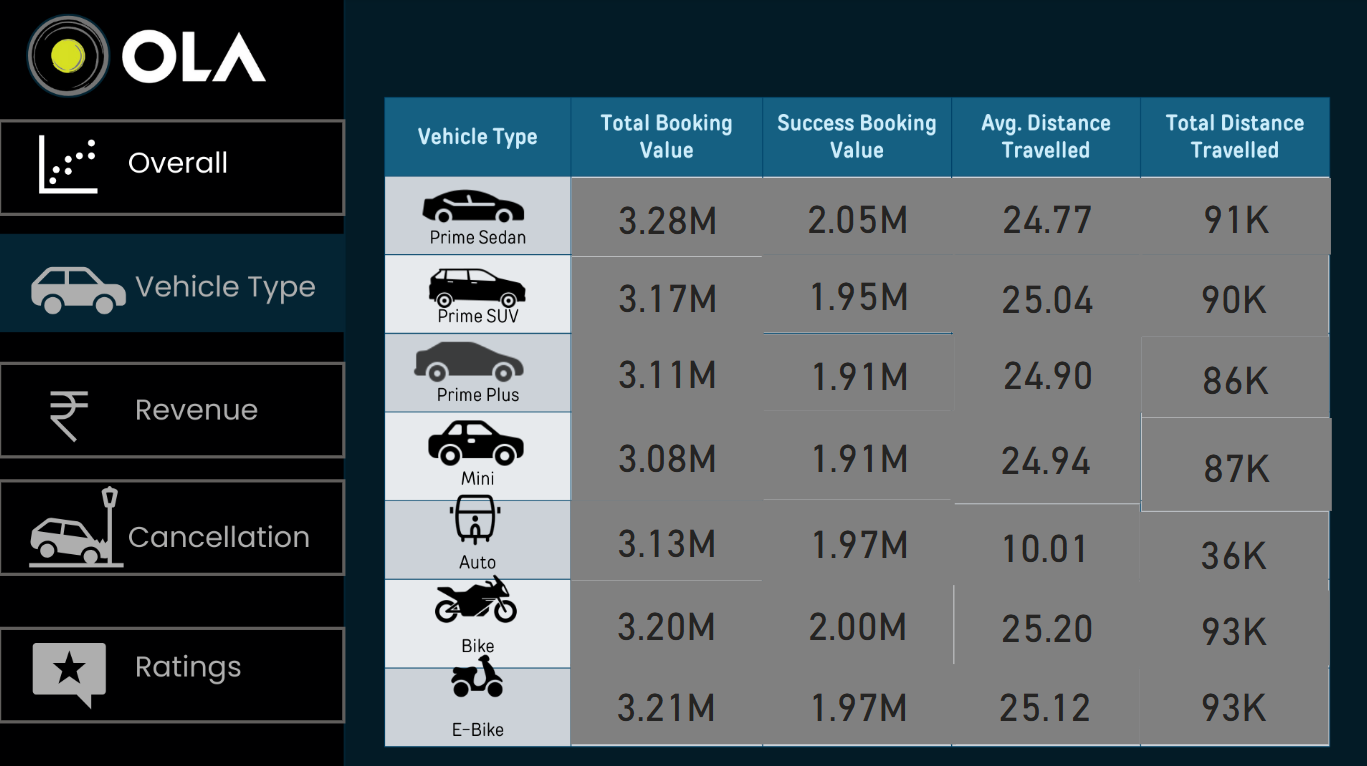

The page's visual inventory and layout, read from the dashboard file:
{"tool":"powerbi","page":{"name":"Vehicle Type","canvas":[1280,720],"ordinal":1},"visuals":[{"type":"actionButton","box":[0,113.3,323.3,90],"z":0},{"type":"actionButton","box":[0,338.9,323.3,90],"z":1000},{"type":"actionButton","box":[0,447.8,323.3,90],"z":2000},{"type":"actionButton","box":[0,584.4,323.3,90],"z":3000},{"type":"card","fields":{"Values":["Sum(July.Booking_Value)"]},"box":[533.8,167.4,178.4,72.7],"z":4000},{"type":"card","fields":{"Values":["Sum(July.Booking_Value)"]},"box":[533.8,240.1,178.4,71.4],"z":5000},{"type":"card","fields":{"Values":["Sum(July.Booking_Value)"]},"box":[533.8,310.1,178.4,74.1],"z":6000},{"type":"card","fields":{"Values":["Sum(July.Booking_Value)"]},"box":[533.8,384.2,178.4,83.7],"z":7000},{"type":"card","fields":{"Values":["Sum(July.Booking_Value)"]},"box":[532.4,467.9,179.8,74.1],"z":8000},{"type":"card","fields":{"Values":["Sum(July.Booking_Value)"]},"box":[532.4,542,178.4,79.6],"z":9000},{"type":"card","fields":{"Values":["Sum(July.Booking_Value)"]},"box":[532.4,620.2,178.4,74.1],"z":10000},{"type":"card","fields":{"Values":["Sum(July.Booking_Value)"]},"box":[710.8,167.4,178.4,71.4],"z":11000},{"type":"card","fields":{"Values":["Sum(July.Booking_Value)"]},"box":[710.8,238.8,179.8,72.7],"z":12000},{"type":"card","fields":{"Values":["Sum(July.Booking_Value)"]},"box":[712.2,312.9,178.4,71.4],"z":13000},{"type":"card","fields":{"Values":["Sum(July.Booking_Value)"]},"box":[712.2,384.2,178.4,82.3],"z":14000},{"type":"card","fields":{"Values":["Sum(July.Booking_Value)"]},"box":[712.2,466.6,178.4,78.2],"z":15000},{"type":"card","fields":{"Values":["Sum(July.Booking_Value)"]},"box":[710.8,542,178.4,79.6],"z":16000},{"type":"card","fields":{"Values":["Sum(July.Booking_Value)"]},"box":[710.8,620.2,179.8,74.1],"z":17000},{"type":"card","fields":{"Values":["Avg(July.Ride_Distance)"]},"box":[887.8,167.4,175.6,71.4],"z":18000},{"type":"card","fields":{"Values":["Avg(July.Ride_Distance)"]},"box":[886.5,470.7,175.6,75.5],"z":19000},{"type":"card","fields":{"Values":["Avg(July.Ride_Distance)"]},"box":[889.2,543.4,172.9,79.6],"z":20000},{"type":"card","fields":{"Values":["Avg(July.Ride_Distance)"]},"box":[886.5,620.2,175.6,74.1],"z":21000},{"type":"card","fields":{"Values":["Avg(July.Ride_Distance)"]},"box":[886.5,384.2,177,86.4],"z":22000},{"type":"card","fields":{"Values":["Avg(July.Ride_Distance)"]},"box":[889.2,310.1,174.3,75.5],"z":23000},{"type":"card","fields":{"Values":["Avg(July.Ride_Distance)"]},"box":[887.8,238.8,175.6,76.8],"z":24000},{"type":"card","fields":{"Values":["Sum(July.Ride_Distance)"]},"box":[1063.5,167.4,175.6,71.4],"z":25000},{"type":"card","fields":{"Values":["Sum(July.Ride_Distance)"]},"box":[1062.1,238.8,175.6,76.8],"z":26000},{"type":"card","fields":{"Values":["Sum(July.Ride_Distance)"]},"box":[1063.5,315.6,174.3,75.5],"z":27000},{"type":"card","fields":{"Values":["Sum(July.Ride_Distance)"]},"box":[1063.5,391.1,177,86.4],"z":28000},{"type":"card","fields":{"Values":["Sum(July.Ride_Distance)"]},"box":[1062.1,477.5,175.6,75.5],"z":29000},{"type":"card","fields":{"Values":["Sum(July.Ride_Distance)"]},"box":[1060.7,551.6,178.4,70],"z":30000},{"type":"card","fields":{"Values":["Sum(July.Ride_Distance)"]},"box":[1062.1,620.2,175.6,74.1],"z":31000}]}

Visuals, with their boxes on the page's 1280x720 design canvas (x1, y1, x2, y2). These are canvas units, not pixel positions in the 1367x766 screenshot, which may show the page scaled, cropped or inside an application window:
actionButton: 0,113,323,203
actionButton: 0,339,323,429
actionButton: 0,448,323,538
actionButton: 0,584,323,674
card - Sum(July.Booking_Value): 534,167,712,240
card - Sum(July.Booking_Value): 534,240,712,312
card - Sum(July.Booking_Value): 534,310,712,384
card - Sum(July.Booking_Value): 534,384,712,468
card - Sum(July.Booking_Value): 532,468,712,542
card - Sum(July.Booking_Value): 532,542,711,622
card - Sum(July.Booking_Value): 532,620,711,694
card - Sum(July.Booking_Value): 711,167,889,239
card - Sum(July.Booking_Value): 711,239,891,312
card - Sum(July.Booking_Value): 712,313,891,384
card - Sum(July.Booking_Value): 712,384,891,466
card - Sum(July.Booking_Value): 712,467,891,545
card - Sum(July.Booking_Value): 711,542,889,622
card - Sum(July.Booking_Value): 711,620,891,694
card - Avg(July.Ride_Distance): 888,167,1063,239
card - Avg(July.Ride_Distance): 886,471,1062,546
card - Avg(July.Ride_Distance): 889,543,1062,623
card - Avg(July.Ride_Distance): 886,620,1062,694
card - Avg(July.Ride_Distance): 886,384,1064,471
card - Avg(July.Ride_Distance): 889,310,1064,386
card - Avg(July.Ride_Distance): 888,239,1063,316
card - Sum(July.Ride_Distance): 1064,167,1239,239
card - Sum(July.Ride_Distance): 1062,239,1238,316
card - Sum(July.Ride_Distance): 1064,316,1238,391
card - Sum(July.Ride_Distance): 1064,391,1240,478
card - Sum(July.Ride_Distance): 1062,478,1238,553
card - Sum(July.Ride_Distance): 1061,552,1239,622
card - Sum(July.Ride_Distance): 1062,620,1238,694
